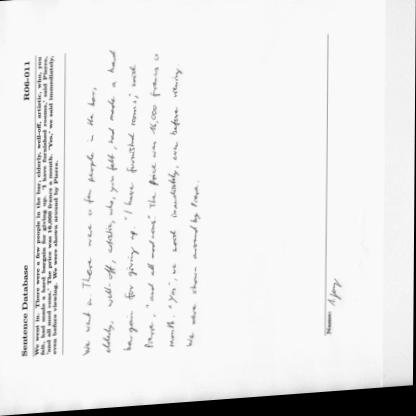Handwritten text: (71, 78, 101, 360), (142, 33, 165, 357), (99, 34, 121, 358), (120, 53, 140, 364), (166, 60, 186, 355), (184, 175, 213, 358)
